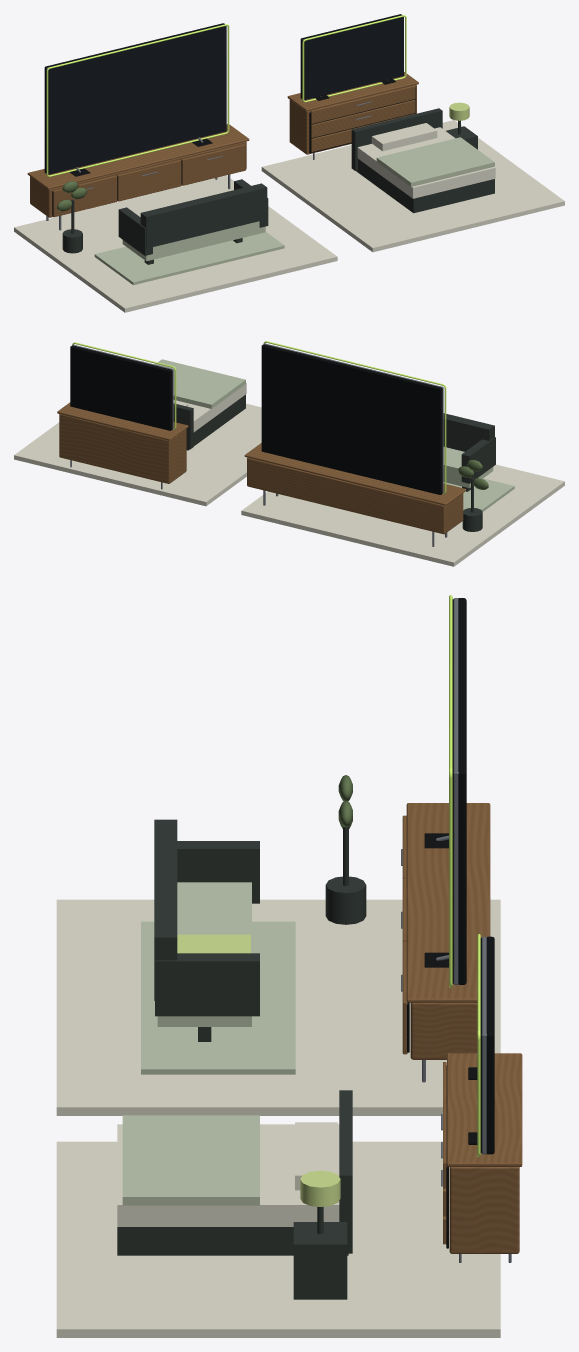
File: room-destinations.glb
3 renders of one model, top to bottom at view 1: azimuth 30°, elevation 25°; view 2: azimuth 150°, elevation 25°; view 3: azimuth 270°, elevation 25°, orthographic. The views are drawn at different scales.
Visible parts, largest first — view 1: LivingScreen, LivingFloor, BedroomFloor, BedroomScreen, LivingSofaBack, LivingRug, BedroomDuvet, LivingOakTop, BedroomMattress, BedroomBedBase, LivingOakFront1, LivingOakFront2 (+18 smaller); view 2: LivingTVRear, LivingFloor, BedroomFloor, BedroomTVRear, LivingOakCabinet, BedroomDresserBody, LivingOakTop, BedroomDuvet, BedroomDresserTop, LivingSofaBack, LivingRug, LivingSofaArm-3.02 (+8 smaller); view 3: BedroomFloor, LivingFloor, LivingRug, BedroomDuvet, LivingOakTop, BedroomMattress, BedroomDresserTop, LivingSofaArm-1.04, BedroomDresserBody, BedroomBedBase, LivingSofaSeat, BedroomSideTable (+13 smaller).
Part boxes in pixels (box(x1,y1,x2,y2)): LivingScreen: box(49, 26, 226, 174); LivingFloor: box(14, 175, 337, 312); BedroomFloor: box(261, 120, 564, 252); BedroomScreen: box(305, 17, 403, 99); LivingSofaBack: box(140, 183, 267, 248); LivingRug: box(94, 232, 284, 285); BedroomDuvet: box(376, 137, 494, 186); LivingOakTop: box(27, 124, 249, 189); BedroomMattress: box(357, 127, 495, 198); BedroomBedBase: box(356, 159, 494, 213); LivingOakFront1: box(117, 160, 181, 201); LivingOakFront2: box(181, 144, 245, 185); LivingTVRear: box(261, 344, 442, 494); LivingFloor: box(241, 464, 564, 566); BedroomFloor: box(14, 403, 261, 506); BedroomTVRear: box(70, 345, 172, 430); LivingOakCabinet: box(247, 457, 463, 534); BedroomDresserBody: box(59, 414, 186, 483); LivingOakTop: box(244, 443, 466, 505); BedroomDuvet: box(155, 359, 245, 408); BedroomDresserTop: box(57, 402, 188, 440); LivingSofaBack: box(443, 413, 494, 451); LivingRug: box(443, 478, 514, 511); LivingSofaArm-3.02: box(461, 437, 495, 483); BedroomFloor: box(56, 1141, 500, 1337); LivingFloor: box(56, 899, 500, 1115); LivingRug: box(141, 921, 295, 1074); BedroomDuvet: box(122, 1115, 259, 1205); LivingOakTop: box(406, 803, 490, 1002); BedroomMattress: box(117, 1124, 339, 1226); BedroomDresserTop: box(447, 1053, 522, 1166); LivingSofaArm-1.04: box(155, 953, 259, 1016); BedroomDresserBody: box(449, 1167, 519, 1253); BedroomBedBase: box(117, 1227, 348, 1255); LivingSofaSeat: box(157, 882, 251, 1026); BedroomSideTable: box(293, 1222, 347, 1299).
Bounding box in the file's own units: 7.56 × 2.75 × 3.46.
Materials: 10 (1 with a texture image).
